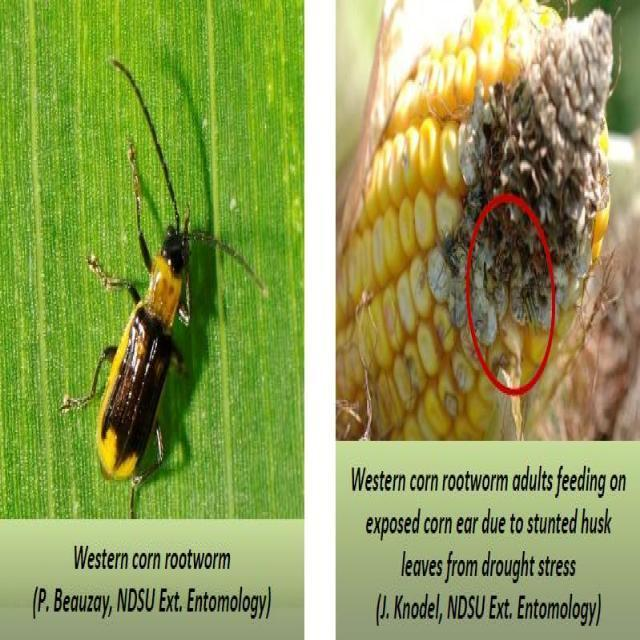trips: (58, 59, 268, 516)
